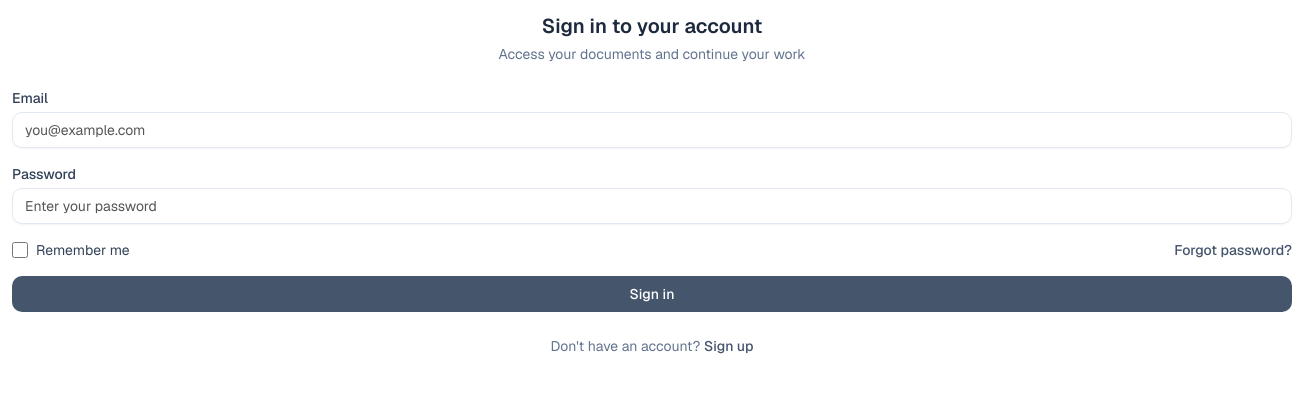
Scenario: LoginPage › form validation › shows error when password is empty on submit
# Submit with empty form to trigger validation
What coordinates should you click on to do the following:
click the button "Sign in"
I would click on:
 (652, 294)
Its box is [12,276,1292,312].
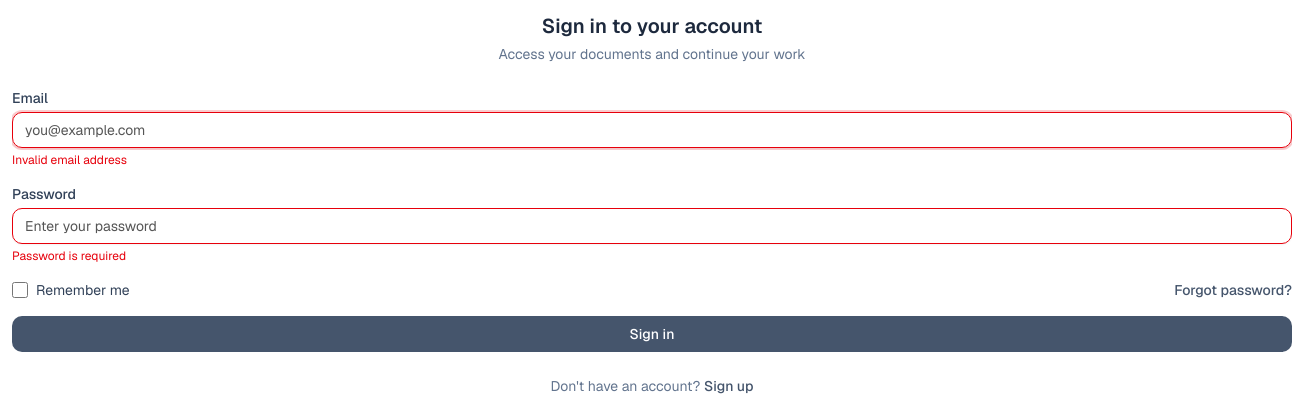
Expected: the text "Password is required" is shown, [12,248,126,264]
